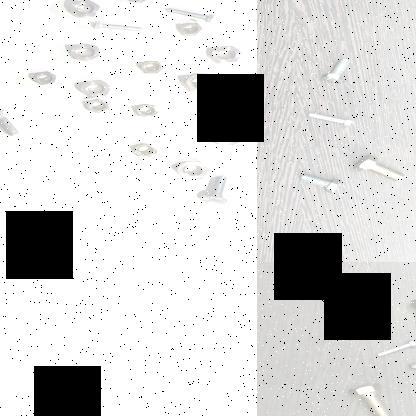Bolts: (192, 168, 239, 208), (347, 153, 407, 181), (349, 379, 391, 416), (294, 170, 342, 194), (306, 110, 353, 132), (320, 55, 354, 85), (160, 6, 216, 24), (90, 19, 144, 35), (374, 339, 416, 358), (0, 106, 23, 139), (406, 294, 416, 332), (403, 351, 416, 372)
NUTS: (179, 71, 219, 94), (202, 125, 246, 145), (170, 161, 212, 181), (68, 39, 99, 64), (76, 78, 114, 98), (206, 44, 242, 64), (64, 0, 104, 18), (129, 99, 159, 119), (28, 66, 58, 86), (172, 20, 204, 38), (134, 59, 164, 77), (129, 142, 160, 158), (84, 96, 109, 114), (235, 80, 257, 96), (124, 0, 148, 5)
